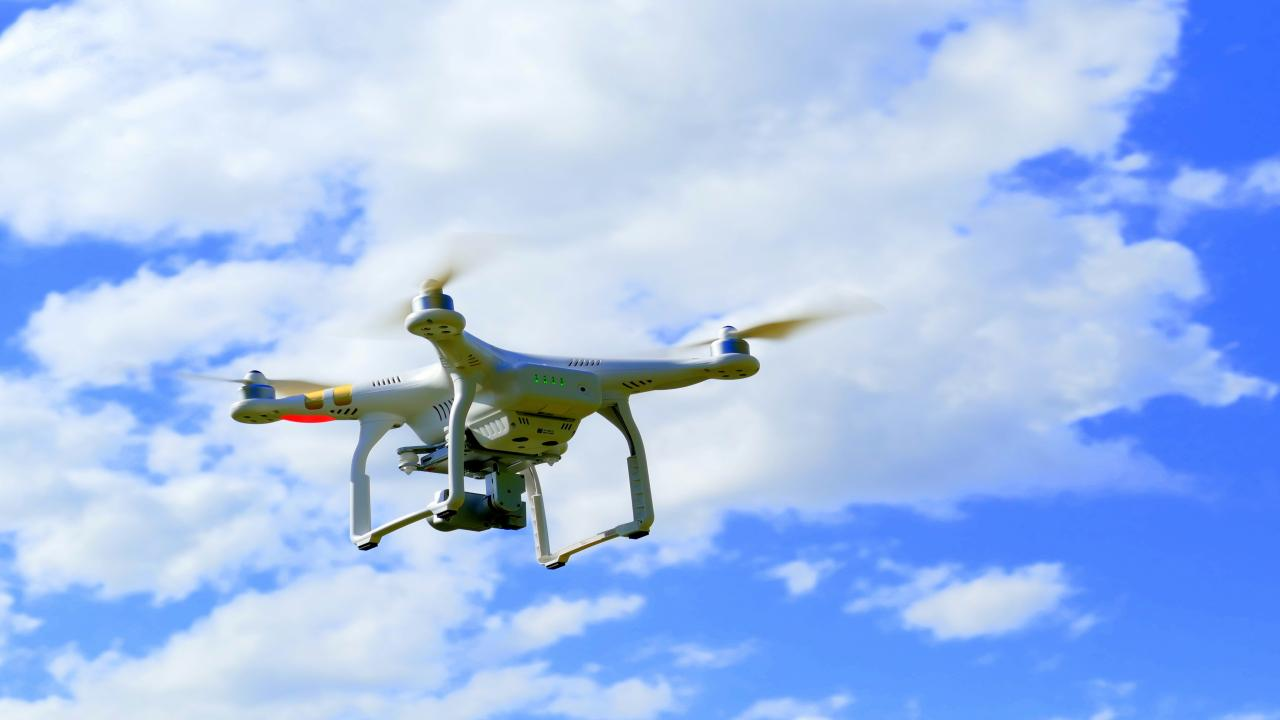Drone: (159, 221, 905, 583)
